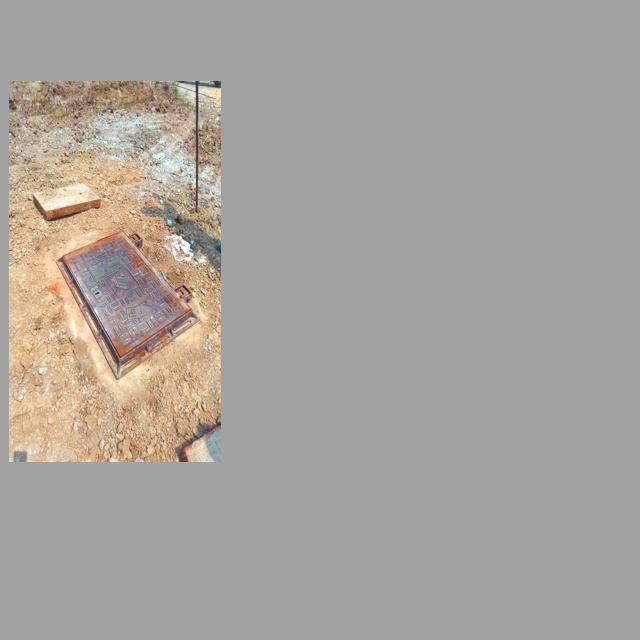good: (65, 229, 192, 370)
